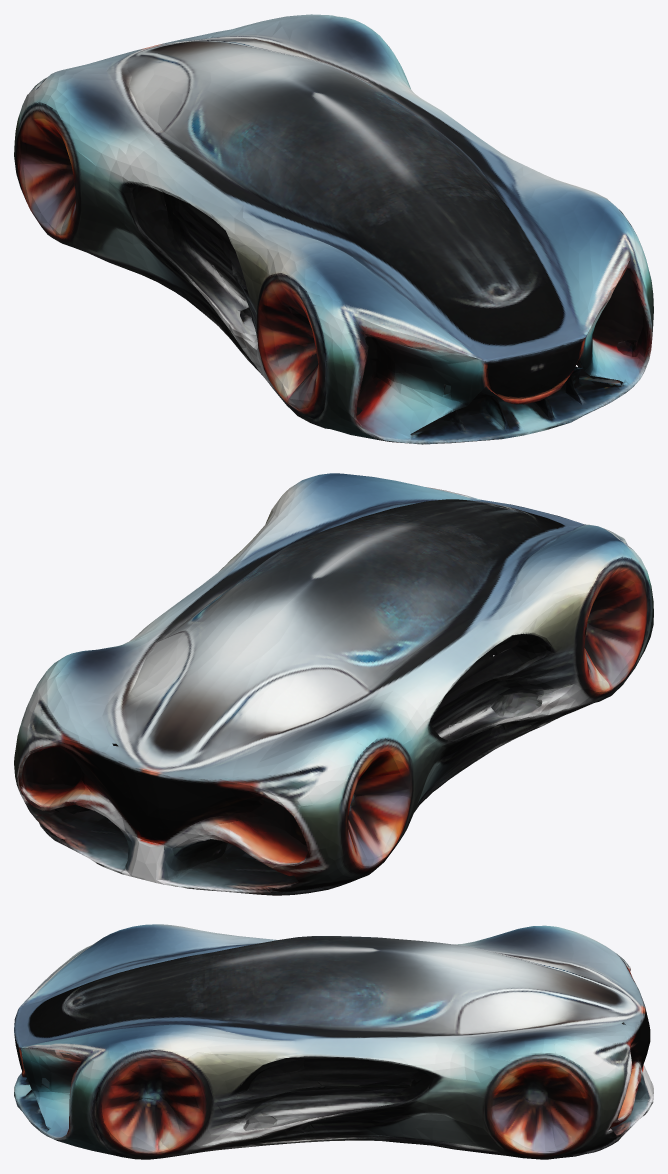
File: coche ia.glb
The picture shows the model from 3 angles, top to bottom: view 1: azimuth 30°, elevation 25°; view 2: azimuth 150°, elevation 25°; view 3: azimuth 270°, elevation 25°; orthographic projection. The views are drawn at different scales.
Visible parts, largest first — view 1: world; view 2: world; view 3: world.
Part boxes in pixels (x1,y1,x2,y2): world: (14, 14, 653, 444); world: (14, 473, 653, 895); world: (14, 924, 653, 1159).
Size of the model in its own units: 0.4914 by 0.2563 by 1.
1 material, 1 textured.
